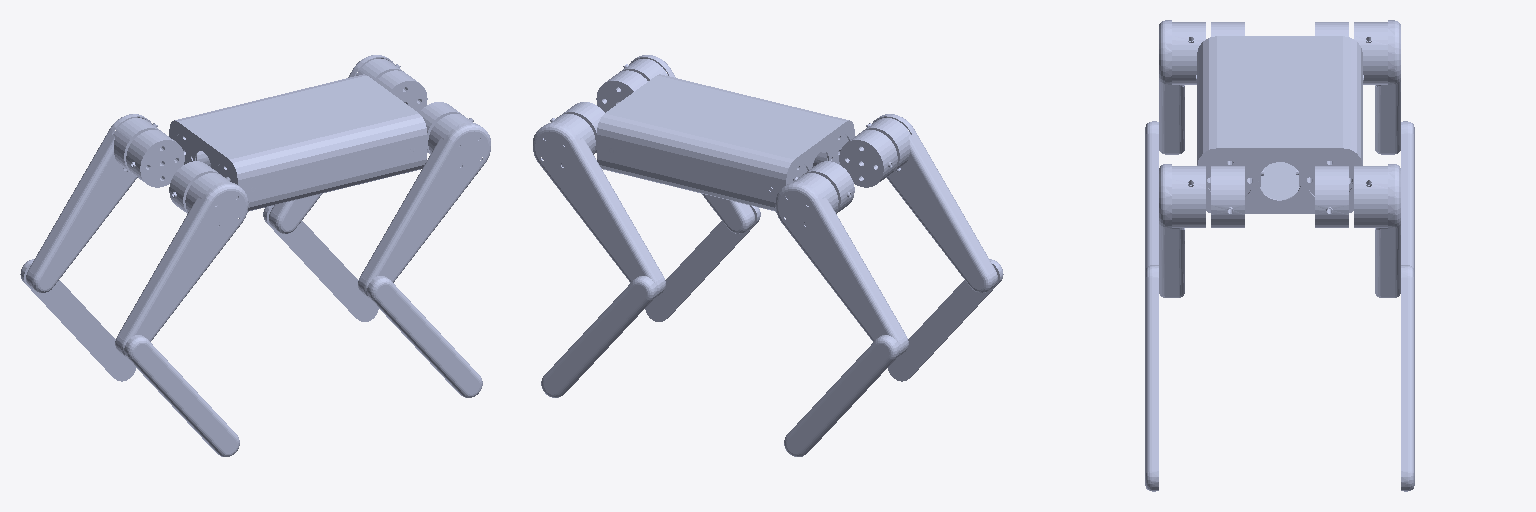
robot.urdf — stoch3:
<?xml version="1.0" encoding="utf-8"?>
<!-- This URDF was automatically created by SolidWorks to URDF Exporter! Originally created by [author] ([email redacted]) 
     Commit Version: 1.5.1-0-g916b5db  Build Version: 1.5.7152.31018
     For more information, please see http://wiki.ros.org/sw_urdf_exporter -->
<robot
  name="stoch3">
  <link
    name="base_link">
    <inertial>
      <origin
        xyz="7.4087E-17 -3.4675E-17 -9.9051E-18"
        rpy="0 0 0" />
      <mass
        value="4.11" />
      <inertia
        ixx="0.0082534"
        ixy="-2.9117E-18"
        ixz="-1.9375E-20"
        iyy="0.01565"
        iyz="2.2745E-21"
        izz="0.020188" />
    </inertial>
    <visual>
      <origin
        xyz="0 0 0"
        rpy="0 0 0" />
      <geometry>
        <mesh
          filename="package://stoch3/meshes/base_link.STL" />
      </geometry>
      <material
        name="">
        <color
          rgba="0.79216 0.81961 0.93333 1" />
      </material>
    </visual>
    <collision>
      <origin
        xyz="0 0 0"
        rpy="0 0 0" />
      <geometry>
        <mesh
          filename="package://stoch3/meshes/base_link.STL" />
      </geometry>
    </collision>
  </link>
  <link
    name="motor_front_left_abd_link">
    <inertial>
      <origin
        xyz="0.042267 0.0017672 6.4461E-09"
        rpy="0 0 0" />
      <mass
        value="1702" />
      <inertia
        ixx="0.00063429"
        ixy="1.7836E-13"
        ixz="9.5169E-11"
        iyy="0.00063429"
        iyz="-2.0068E-08"
        izz="0.00051618" />
    </inertial>
    <visual>
      <origin
        xyz="0 0 0"
        rpy="0 0 0" />
      <geometry>
        <mesh
          filename="package://stoch3/meshes/motor_front_left_abd_link.STL" />
      </geometry>
      <material
        name="">
        <color
          rgba="0.79216 0.81961 0.93333 1" />
      </material>
    </visual>
    <collision>
      <origin
        xyz="0 0 0"
        rpy="0 0 0" />
      <geometry>
        <mesh
          filename="package://stoch3/meshes/motor_front_left_abd_link.STL" />
      </geometry>
    </collision>
  </link>
  <joint
    name="motor_front_left_abd_joint"
    type="revolute">
    <origin
      xyz="0.1715 0.075 0"
      rpy="0 0 0" />
    <parent
      link="base_link" />
    <child
      link="motor_front_left_abd_link" />
    <axis
      xyz="-1 0 0" />
    <limit
      lower="0"
      upper="0"
      effort="0"
      velocity="0" />
  </joint>
  <link
    name="motor_fl_upper_hip_link">
    <inertial>
      <origin
        xyz="-0.026428 0.0081065 -0.031643"
        rpy="0 0 0" />
      <mass
        value="1.56" />
      <inertia
        ixx="0.0011269"
        ixy="-2.9331E-05"
        ixz="-0.0006139"
        iyy="0.0018192"
        iyz="-3.514E-05"
        izz="0.00090459" />
    </inertial>
    <visual>
      <origin
        xyz="0 0 0"
        rpy="0 0 0" />
      <geometry>
        <mesh
          filename="package://stoch3/meshes/motor_fl_upper_hip_link.STL" />
      </geometry>
      <material
        name="">
        <color
          rgba="0.79216 0.81961 0.93333 1" />
      </material>
    </visual>
    <collision>
      <origin
        xyz="0 0 0"
        rpy="0 0 0" />
      <geometry>
        <mesh
          filename="package://stoch3/meshes/motor_fl_upper_hip_link.STL" />
      </geometry>
    </collision>
  </link>
  <joint
    name="motor_fl_upper_hip_joint"
    type="revolute">
    <origin
      xyz="0.0845 0.0625 0"
      rpy="0 0 0" />
    <parent
      link="motor_front_left_abd_link" />
    <child
      link="motor_fl_upper_hip_link" />
    <axis
      xyz="0 -1 0" />
    <limit
      lower="0"
      upper="0"
      effort="0"
      velocity="0" />
  </joint>
  <link
    name="motor_fl_upper_knee_link">
    <inertial>
      <origin
        xyz="0.093564 -0.0003826 -0.11724"
        rpy="0 0 0" />
      <mass
        value="0.125" />
      <inertia
        ixx="0.0019186"
        ixy="9.5355E-11"
        ixz="0.0014742"
        iyy="0.0031459"
        iyz="8.0663E-11"
        izz="0.0012478" />
    </inertial>
    <visual>
      <origin
        xyz="0 0 0"
        rpy="0 0 0" />
      <geometry>
        <mesh
          filename="package://stoch3/meshes/motor_fl_upper_knee_link.STL" />
      </geometry>
      <material
        name="">
        <color
          rgba="0.79216 0.81961 0.93333 1" />
      </material>
    </visual>
    <collision>
      <origin
        xyz="0 0 0"
        rpy="0 0 0" />
      <geometry>
        <mesh
          filename="package://stoch3/meshes/motor_fl_upper_knee_link.STL" />
      </geometry>
    </collision>
  </link>
  <joint
    name="motor_fl_upper_knee_joint"
    type="revolute">
    <origin
      xyz="-0.19231 0.0555 -0.23026"
      rpy="0 0 0" />
    <parent
      link="motor_fl_upper_hip_link" />
    <child
      link="motor_fl_upper_knee_link" />
    <axis
      xyz="0 -1 0" />
    <limit
      lower="0"
      upper="0"
      effort="0"
      velocity="0" />
  </joint>
  <link
    name="motor_front_right_abd_link">
    <inertial>
      <origin
        xyz="0.042267 -0.0017671 -4.4384E-10"
        rpy="0 0 0" />
      <mass
        value="1.702" />
      <inertia
        ixx="0.00063429"
        ixy="5.138E-10"
        ixz="-5.8189E-11"
        iyy="0.00063429"
        iyz="-2.0068E-08"
        izz="0.00051618" />
    </inertial>
    <visual>
      <origin
        xyz="0 0 0"
        rpy="0 0 0" />
      <geometry>
        <mesh
          filename="package://stoch3/meshes/motor_front_right_abd_link.STL" />
      </geometry>
      <material
        name="">
        <color
          rgba="0.79216 0.81961 0.93333 1" />
      </material>
    </visual>
    <collision>
      <origin
        xyz="0 0 0"
        rpy="0 0 0" />
      <geometry>
        <mesh
          filename="package://stoch3/meshes/motor_front_right_abd_link.STL" />
      </geometry>
    </collision>
  </link>
  <joint
    name="motor_front_right_abd_joint"
    type="revolute">
    <origin
      xyz="0.1715 -0.075 0"
      rpy="0 0 0" />
    <parent
      link="base_link" />
    <child
      link="motor_front_right_abd_link" />
    <axis
      xyz="-1 0 0" />
    <limit
      lower="0"
      upper="0"
      effort="0"
      velocity="0" />
  </joint>
  <link
    name="motor_fr_upper_hip_link">
    <inertial>
      <origin
        xyz="-0.026429 -0.0081064 -0.031643"
        rpy="0 0 0" />
      <mass
        value="1.561" />
      <inertia
        ixx="0.0011269"
        ixy="2.9354E-05"
        ixz="-0.00061391"
        iyy="0.0018192"
        iyz="3.5122E-05"
        izz="0.00090462" />
    </inertial>
    <visual>
      <origin
        xyz="0 0 0"
        rpy="0 0 0" />
      <geometry>
        <mesh
          filename="package://stoch3/meshes/motor_fr_upper_hip_link.STL" />
      </geometry>
      <material
        name="">
        <color
          rgba="0.79216 0.81961 0.93333 1" />
      </material>
    </visual>
    <collision>
      <origin
        xyz="0 0 0"
        rpy="0 0 0" />
      <geometry>
        <mesh
          filename="package://stoch3/meshes/motor_fr_upper_hip_link.STL" />
      </geometry>
    </collision>
  </link>
  <joint
    name="motor_fr_upper_hip_joint"
    type="revolute">
    <origin
      xyz="0.0845 -0.0625 0"
      rpy="0 0 0" />
    <parent
      link="motor_front_right_abd_link" />
    <child
      link="motor_fr_upper_hip_link" />
    <axis
      xyz="0 -1 0" />
    <limit
      lower="0"
      upper="0"
      effort="0"
      velocity="0" />
  </joint>
  <link
    name="motor_fr_upper_knee_link">
    <inertial>
      <origin
        xyz="0.093565 0.0003826 -0.11724"
        rpy="0 0 0" />
      <mass
        value="0.125" />
      <inertia
        ixx="0.0019186"
        ixy="9.9804E-11"
        ixz="0.0014742"
        iyy="0.0031459"
        iyz="7.5087E-11"
        izz="0.0012478" />
    </inertial>
    <visual>
      <origin
        xyz="0 0 0"
        rpy="0 0 0" />
      <geometry>
        <mesh
          filename="package://stoch3/meshes/motor_fr_upper_knee_link.STL" />
      </geometry>
      <material
        name="">
        <color
          rgba="0.79216 0.81961 0.93333 1" />
      </material>
    </visual>
    <collision>
      <origin
        xyz="0 0 0"
        rpy="0 0 0" />
      <geometry>
        <mesh
          filename="package://stoch3/meshes/motor_fr_upper_knee_link.STL" />
      </geometry>
    </collision>
  </link>
  <joint
    name="motor_fr_upper_knee_joint"
    type="revolute">
    <origin
      xyz="-0.19231 -0.0555 -0.23026"
      rpy="0 0 0" />
    <parent
      link="motor_fr_upper_hip_link" />
    <child
      link="motor_fr_upper_knee_link" />
    <axis
      xyz="0 -1 0" />
    <limit
      lower="0"
      upper="0"
      effort="0"
      velocity="0" />
  </joint>
  <link
    name="motor_back_left_abd_link">
    <inertial>
      <origin
        xyz="-0.042267 0.0017671 4.4356E-10"
        rpy="0 0 0" />
      <mass
        value="1.702" />
      <inertia
        ixx="0.00063429"
        ixy="5.1342E-10"
        ixz="5.3528E-11"
        iyy="0.00063429"
        iyz="-1.9957E-08"
        izz="0.00051618" />
    </inertial>
    <visual>
      <origin
        xyz="0 0 0"
        rpy="0 0 0" />
      <geometry>
        <mesh
          filename="package://stoch3/meshes/motor_back_left_abd_link.STL" />
      </geometry>
      <material
        name="">
        <color
          rgba="0.79216 0.81961 0.93333 1" />
      </material>
    </visual>
    <collision>
      <origin
        xyz="0 0 0"
        rpy="0 0 0" />
      <geometry>
        <mesh
          filename="package://stoch3/meshes/motor_back_left_abd_link.STL" />
      </geometry>
    </collision>
  </link>
  <joint
    name="motor_back_left_abd_joint"
    type="revolute">
    <origin
      xyz="-0.1715 0.075 0"
      rpy="0 0 0" />
    <parent
      link="base_link" />
    <child
      link="motor_back_left_abd_link" />
    <axis
      xyz="1 0 0" />
    <limit
      lower="0"
      upper="0"
      effort="0"
      velocity="0" />
  </joint>
  <link
    name="motor_bl_upper_hip_link">
    <inertial>
      <origin
        xyz="-0.026428 0.0081065 -0.031643"
        rpy="0 0 0" />
      <mass
        value="1.561" />
      <inertia
        ixx="0.0011269"
        ixy="-2.9331E-05"
        ixz="-0.0006139"
        iyy="0.0018192"
        iyz="-3.514E-05"
        izz="0.00090459" />
    </inertial>
    <visual>
      <origin
        xyz="0 0 0"
        rpy="0 0 0" />
      <geometry>
        <mesh
          filename="package://stoch3/meshes/motor_bl_upper_hip_link.STL" />
      </geometry>
      <material
        name="">
        <color
          rgba="0.79216 0.81961 0.93333 1" />
      </material>
    </visual>
    <collision>
      <origin
        xyz="0 0 0"
        rpy="0 0 0" />
      <geometry>
        <mesh
          filename="package://stoch3/meshes/motor_bl_upper_hip_link.STL" />
      </geometry>
    </collision>
  </link>
  <joint
    name="motor_bl_upper_hip_joint"
    type="revolute">
    <origin
      xyz="-0.0845000000000005 0.062500000000128 0"
      rpy="0 0 0" />
    <parent
      link="motor_back_left_abd_link" />
    <child
      link="motor_bl_upper_hip_link" />
    <axis
      xyz="0 -1 0" />
    <limit
      lower="0"
      upper="0"
      effort="0"
      velocity="0" />
  </joint>
  <link
    name="motor_bl_upper_knee_link">
    <inertial>
      <origin
        xyz="0.093564 -0.0003826 -0.11724"
        rpy="0 0 0" />
      <mass
        value="0.125" />
      <inertia
        ixx="0.0019186"
        ixy="9.5355E-11"
        ixz="0.0014742"
        iyy="0.0031459"
        iyz="8.0663E-11"
        izz="0.0012478" />
    </inertial>
    <visual>
      <origin
        xyz="0 0 0"
        rpy="0 0 0" />
      <geometry>
        <mesh
          filename="package://stoch3/meshes/motor_bl_upper_knee_link.STL" />
      </geometry>
      <material
        name="">
        <color
          rgba="0.79216 0.81961 0.93333 1" />
      </material>
    </visual>
    <collision>
      <origin
        xyz="0 0 0"
        rpy="0 0 0" />
      <geometry>
        <mesh
          filename="package://stoch3/meshes/motor_bl_upper_knee_link.STL" />
      </geometry>
    </collision>
  </link>
  <joint
    name="motor_bl_upper_knee_joint"
    type="revolute">
    <origin
      xyz="-0.19231 0.0555 -0.23026"
      rpy="0 0 0" />
    <parent
      link="motor_bl_upper_hip_link" />
    <child
      link="motor_bl_upper_knee_link" />
    <axis
      xyz="0 -1 0" />
    <limit
      lower="0"
      upper="0"
      effort="0"
      velocity="0" />
  </joint>
  <link
    name="motor_back_right_abd_link">
    <inertial>
      <origin
        xyz="-0.042267 -0.0017672 7.3335E-09"
        rpy="0 0 0" />
      <mass
        value="1.702" />
      <inertia
        ixx="0.00063429"
        ixy="-1.9951E-13"
        ixz="-9.9829E-11"
        iyy="0.00063429"
        iyz="-1.9957E-08"
        izz="0.00051618" />
    </inertial>
    <visual>
      <origin
        xyz="0 0 0"
        rpy="0 0 0" />
      <geometry>
        <mesh
          filename="package://stoch3/meshes/motor_back_right_abd_link.STL" />
      </geometry>
      <material
        name="">
        <color
          rgba="0.79216 0.81961 0.93333 1" />
      </material>
    </visual>
    <collision>
      <origin
        xyz="0 0 0"
        rpy="0 0 0" />
      <geometry>
        <mesh
          filename="package://stoch3/meshes/motor_back_right_abd_link.STL" />
      </geometry>
    </collision>
  </link>
  <joint
    name="motor_back_right_abd_joint"
    type="revolute">
    <origin
      xyz="-0.1715 -0.075 0"
      rpy="0 0 0" />
    <parent
      link="base_link" />
    <child
      link="motor_back_right_abd_link" />
    <axis
      xyz="1 0 0" />
    <limit
      lower="0"
      upper="0"
      effort="0"
      velocity="0" />
  </joint>
  <link
    name="motor_br_upper_hip_link">
    <inertial>
      <origin
        xyz="-0.026429 -0.0081064 -0.031643"
        rpy="0 0 0" />
      <mass
        value="1.561" />
      <inertia
        ixx="0.0011269"
        ixy="2.9354E-05"
        ixz="-0.00061391"
        iyy="0.0018192"
        iyz="3.5122E-05"
        izz="0.00090462" />
    </inertial>
    <visual>
      <origin
        xyz="0 0 0"
        rpy="0 0 0" />
      <geometry>
        <mesh
          filename="package://stoch3/meshes/motor_br_upper_hip_link.STL" />
      </geometry>
      <material
        name="">
        <color
          rgba="0.79216 0.81961 0.93333 1" />
      </material>
    </visual>
    <collision>
      <origin
        xyz="0 0 0"
        rpy="0 0 0" />
      <geometry>
        <mesh
          filename="package://stoch3/meshes/motor_br_upper_hip_link.STL" />
      </geometry>
    </collision>
  </link>
  <joint
    name="motor_br_upper_hip_joint"
    type="revolute">
    <origin
      xyz="-0.0844999999999999 -0.0624999999999987 0"
      rpy="0 0 0" />
    <parent
      link="motor_back_right_abd_link" />
    <child
      link="motor_br_upper_hip_link" />
    <axis
      xyz="0 -1 0" />
    <limit
      lower="0"
      upper="0"
      effort="0"
      velocity="0" />
  </joint>
  <link
    name="motor_br_upper_knee_link">
    <inertial>
      <origin
        xyz="0.093565 0.0003826 -0.11724"
        rpy="0 0 0" />
      <mass
        value="0.125" />
      <inertia
        ixx="0.0019186"
        ixy="9.9804E-11"
        ixz="0.0014742"
        iyy="0.0031459"
        iyz="7.5087E-11"
        izz="0.0012478" />
    </inertial>
    <visual>
      <origin
        xyz="0 0 0"
        rpy="0 0 0" />
      <geometry>
        <mesh
          filename="package://stoch3/meshes/motor_br_upper_knee_link.STL" />
      </geometry>
      <material
        name="">
        <color
          rgba="0.79216 0.81961 0.93333 1" />
      </material>
    </visual>
    <collision>
      <origin
        xyz="0 0 0"
        rpy="0 0 0" />
      <geometry>
        <mesh
          filename="package://stoch3/meshes/motor_br_upper_knee_link.STL" />
      </geometry>
    </collision>
  </link>
  <joint
    name="motor_br_upper_knee_joint"
    type="revolute">
    <origin
      xyz="-0.192307885658796 -0.0554999999998631 -0.230255677700808"
      rpy="0 0 0" />
    <parent
      link="motor_br_upper_hip_link" />
    <child
      link="motor_br_upper_knee_link" />
    <axis
      xyz="0 -1 0" />
    <limit
      lower="0"
      upper="0"
      effort="0"
      velocity="0" />
  </joint>
</robot>

--- Render facts (derived) ---
The picture shows the robot from 3 angles, left to right: view 1: azimuth 30°, elevation 25°; view 2: azimuth 150°, elevation 25°; view 3: azimuth 270°, elevation 25°; orthographic projection.
Model stoch3 with 13 links and 12 joints (12 revolute), rooted at base_link, posed all joints at 0.
Links seen in each view (by area): view 1: base_link, motor_br_upper_hip_link, motor_fr_upper_hip_link, motor_bl_upper_hip_link, motor_fr_upper_knee_link, motor_br_upper_knee_link, motor_bl_upper_knee_link, motor_fl_upper_knee_link, motor_back_left_abd_link, motor_fl_upper_hip_link, motor_front_left_abd_link, motor_back_right_abd_link (+1 smaller); view 2: base_link, motor_bl_upper_hip_link, motor_fl_upper_hip_link, motor_br_upper_hip_link, motor_fl_upper_knee_link, motor_bl_upper_knee_link, motor_br_upper_knee_link, motor_fr_upper_knee_link, motor_back_right_abd_link, motor_fr_upper_hip_link, motor_front_right_abd_link, motor_back_left_abd_link (+1 smaller); view 3: base_link, motor_fl_upper_hip_link, motor_fr_upper_hip_link, motor_br_upper_hip_link, motor_bl_upper_hip_link, motor_fl_upper_knee_link, motor_fr_upper_knee_link, motor_front_right_abd_link, motor_front_left_abd_link, motor_bl_upper_knee_link, motor_br_upper_knee_link.
Link boxes in pixels (left/top/right/bottom): base_link: left=169, top=74, right=426, bottom=211; motor_br_upper_hip_link: left=115, top=173, right=248, bottom=356; motor_fr_upper_hip_link: left=358, top=114, right=490, bottom=297; motor_bl_upper_hip_link: left=26, top=114, right=160, bottom=292; motor_fr_upper_knee_link: left=367, top=276, right=482, bottom=397; motor_br_upper_knee_link: left=124, top=335, right=239, bottom=456; motor_bl_upper_knee_link: left=20, top=259, right=135, bottom=381; motor_fl_upper_knee_link: left=263, top=205, right=378, bottom=321; motor_back_left_abd_link: left=126, top=130, right=211, bottom=187; motor_fl_upper_hip_link: left=269, top=55, right=403, bottom=233; motor_front_left_abd_link: left=376, top=70, right=427, bottom=112; motor_back_right_abd_link: left=169, top=161, right=255, bottom=213; base_link: left=597, top=74, right=854, bottom=211; motor_bl_upper_hip_link: left=775, top=173, right=908, bottom=356; motor_fl_upper_hip_link: left=533, top=114, right=665, bottom=297; motor_br_upper_hip_link: left=863, top=114, right=997, bottom=292; motor_fl_upper_knee_link: left=541, top=276, right=656, bottom=397; motor_bl_upper_knee_link: left=784, top=335, right=899, bottom=456; motor_br_upper_knee_link: left=888, top=259, right=1003, bottom=381; motor_fr_upper_knee_link: left=645, top=205, right=760, bottom=321; motor_back_right_abd_link: left=812, top=130, right=897, bottom=187; motor_fr_upper_hip_link: left=620, top=55, right=754, bottom=233; motor_front_right_abd_link: left=596, top=70, right=647, bottom=112; motor_back_left_abd_link: left=768, top=161, right=854, bottom=213; base_link: left=1197, top=36, right=1362, bottom=213; motor_fl_upper_hip_link: left=1354, top=164, right=1400, bottom=297; motor_fr_upper_hip_link: left=1159, top=164, right=1205, bottom=297; motor_br_upper_hip_link: left=1159, top=20, right=1205, bottom=154; motor_bl_upper_hip_link: left=1354, top=20, right=1400, bottom=154; motor_fl_upper_knee_link: left=1401, top=265, right=1414, bottom=491; motor_fr_upper_knee_link: left=1145, top=265, right=1158, bottom=491; motor_front_right_abd_link: left=1207, top=161, right=1263, bottom=227; motor_front_left_abd_link: left=1296, top=161, right=1352, bottom=227; motor_bl_upper_knee_link: left=1401, top=121, right=1414, bottom=270; motor_br_upper_knee_link: left=1145, top=121, right=1158, bottom=270.
Bounding box of the posed robot: 0.7803 × 0.406 × 0.5447 m (x, y, z).
13 mesh visuals loaded from 13 distinct referenced files (13 binary STL).